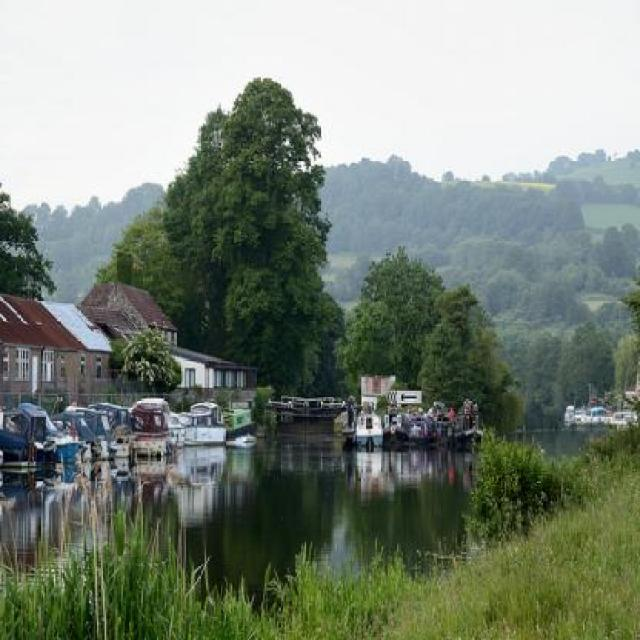ship: (0, 406, 52, 467), (132, 396, 172, 453), (174, 402, 229, 442), (402, 402, 440, 440), (354, 402, 381, 447)
